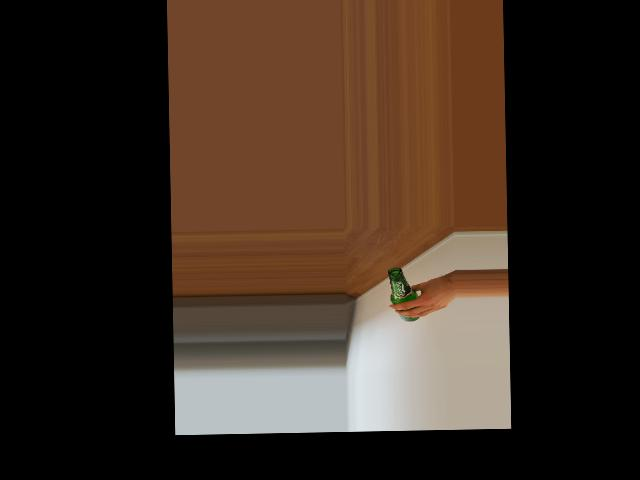beer: (388, 266, 418, 321)
